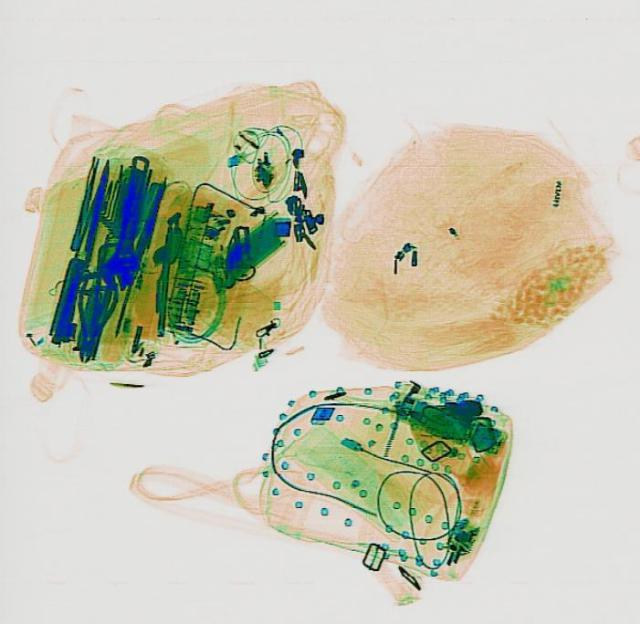Pliers: (61, 272, 119, 364)
Wrench: (95, 152, 163, 293)
